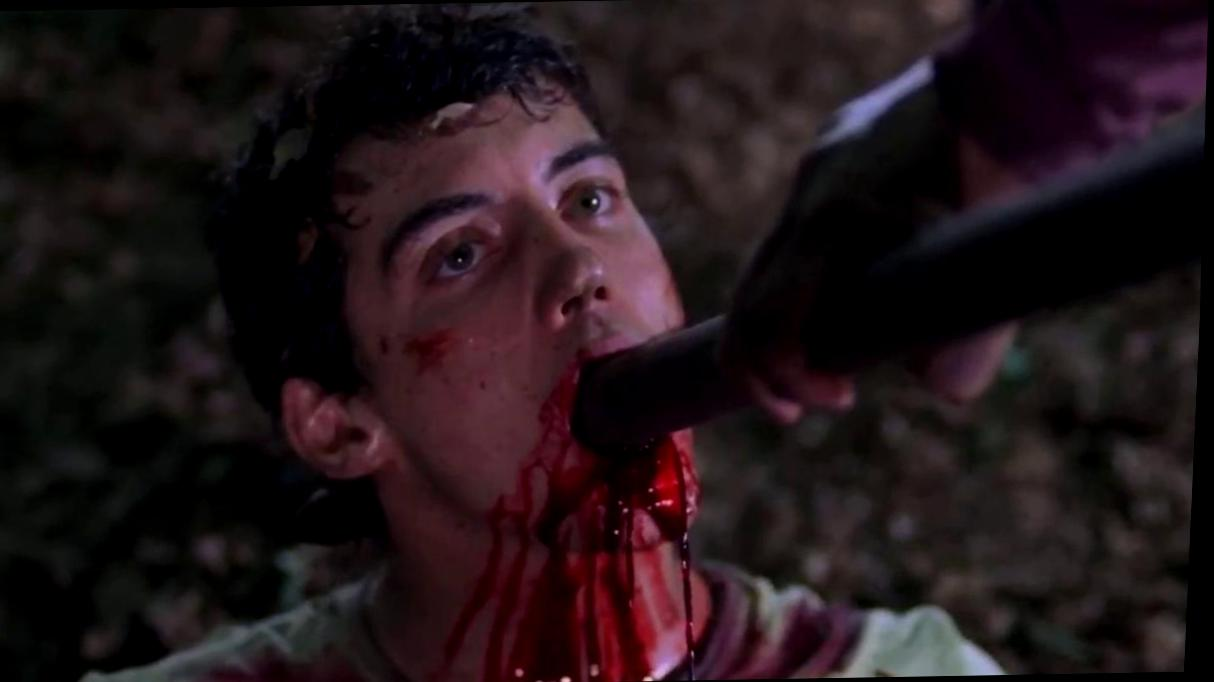Fire: (453, 370, 871, 682), (200, 579, 406, 682), (404, 336, 459, 376)
